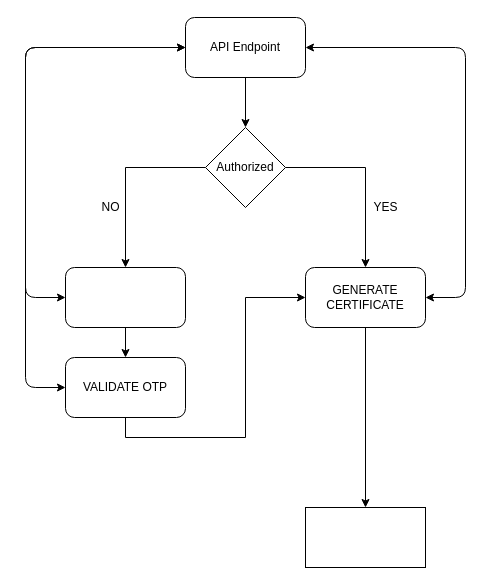
Image size: 492x585. Some labels were removed from this diagram. The shapes that lost their labels are listed below. From the top down, each one's centre as x and y in pixels, then its label:
point 125,297: Generate OTP
point 365,537: DOWNLOAD PDF
